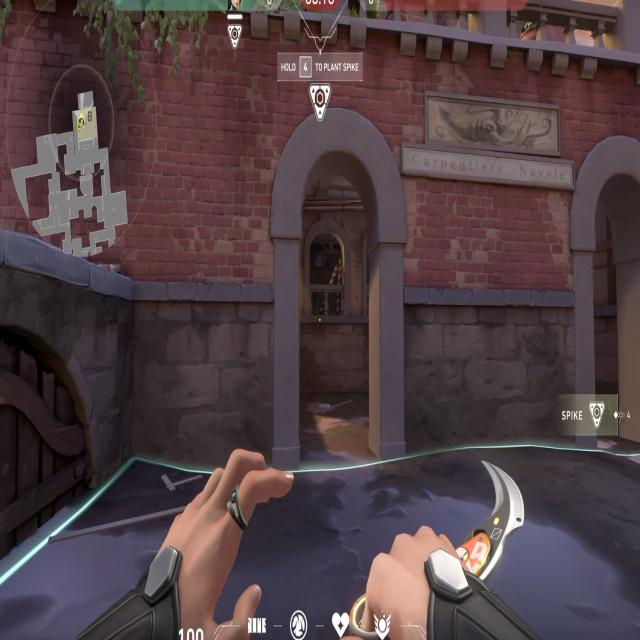B_Boathouse: (263, 99, 413, 482), (558, 111, 640, 449)
